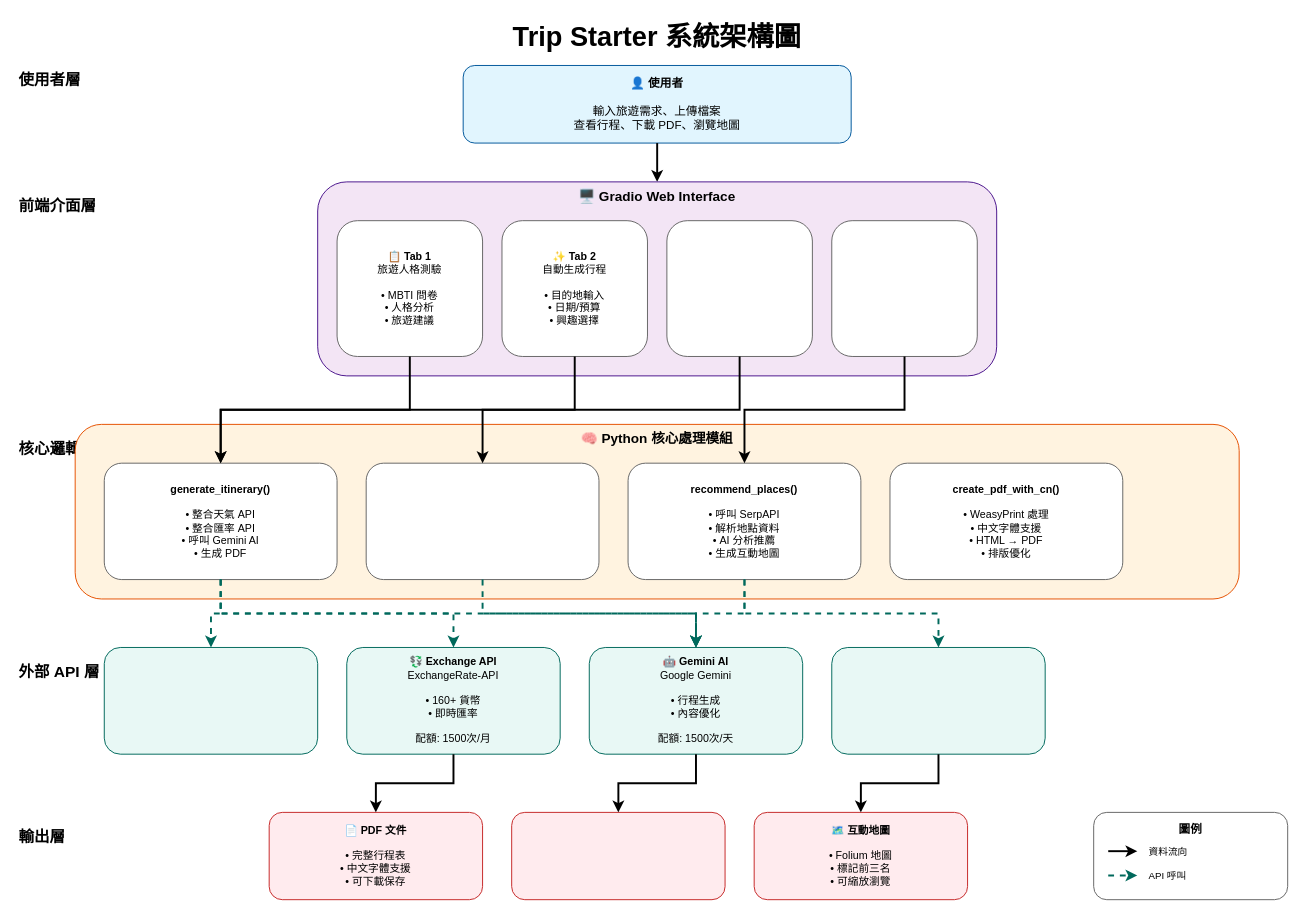
This 1305x917 diagram has some shape labels left out. Each missing label, with the centre of its shape:
optimize_itinerary() • 讀取上傳檔案 • 解析行程內容 • AI 優化建議 • 生成 PDF: the point at 482,521
🌤️ Weather API Visual Crossing • 15天天氣預報 • 70年歷史資料 配額: 1000次/天: the point at 210,700
📊 資料表格 • 地點清單 • 評分排序 • 距離資訊: the point at 618,855
📍 Tab 4 地點推薦器 • 地點搜尋 • 半徑設定 • 類型篩選: the point at 904,288
🔍 SerpAPI Google Maps Search • 地點搜尋 • 評分資訊 配額: 100次/月: the point at 938,700
🔧 Tab 3 行程優化器 • 檔案上傳 • 節奏調整 • 風格選擇: the point at 739,288
